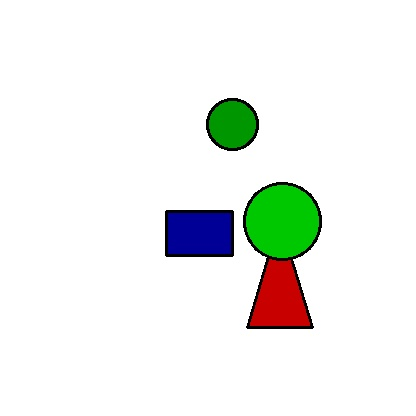circle: (241, 183, 323, 259), (186, 99, 279, 149)
rectangle: (166, 211, 232, 255)
triangle: (247, 219, 312, 327)
